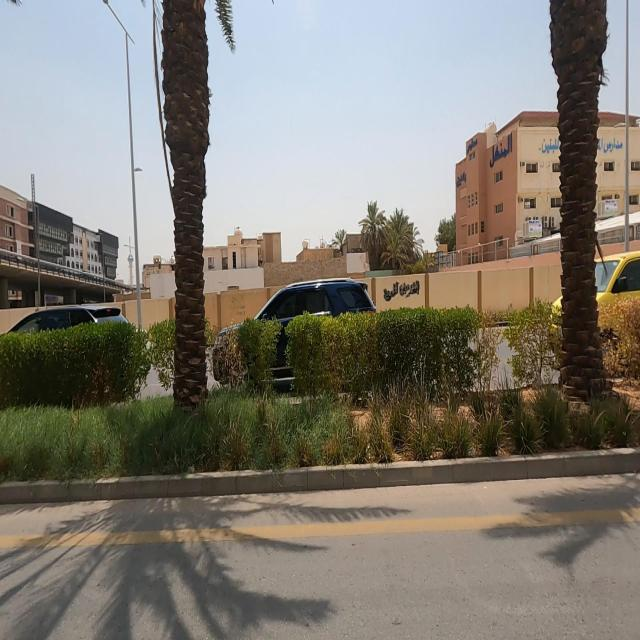Graffiti: (382, 280, 422, 302), (231, 294, 246, 316)
